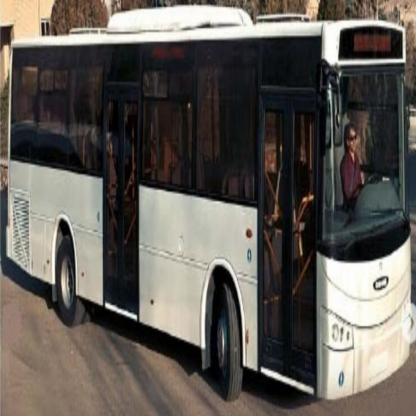Bus: (0, 1, 416, 406)
